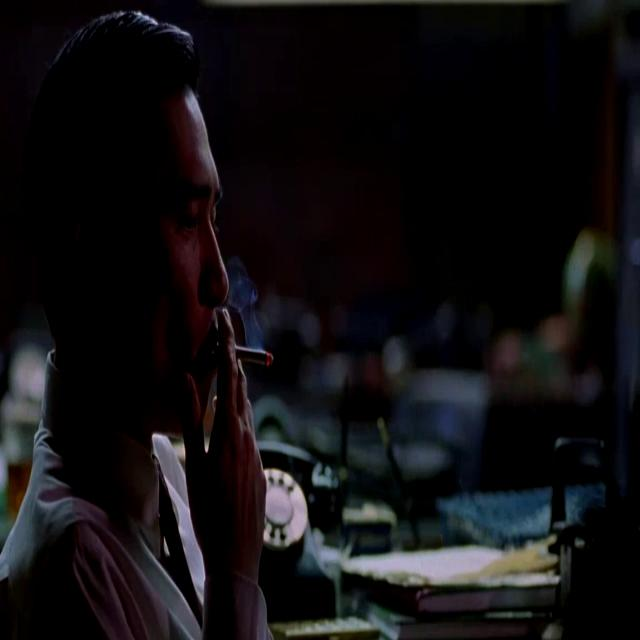Smooking: (239, 326, 281, 376)
